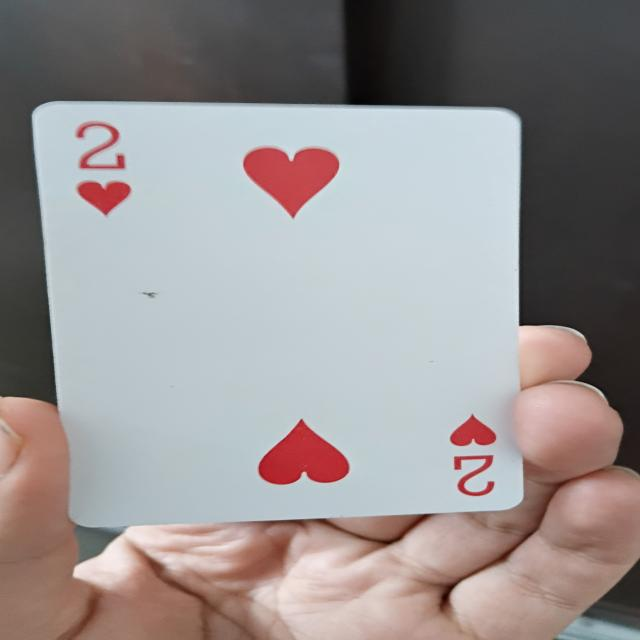2H: (27, 99, 530, 515)
